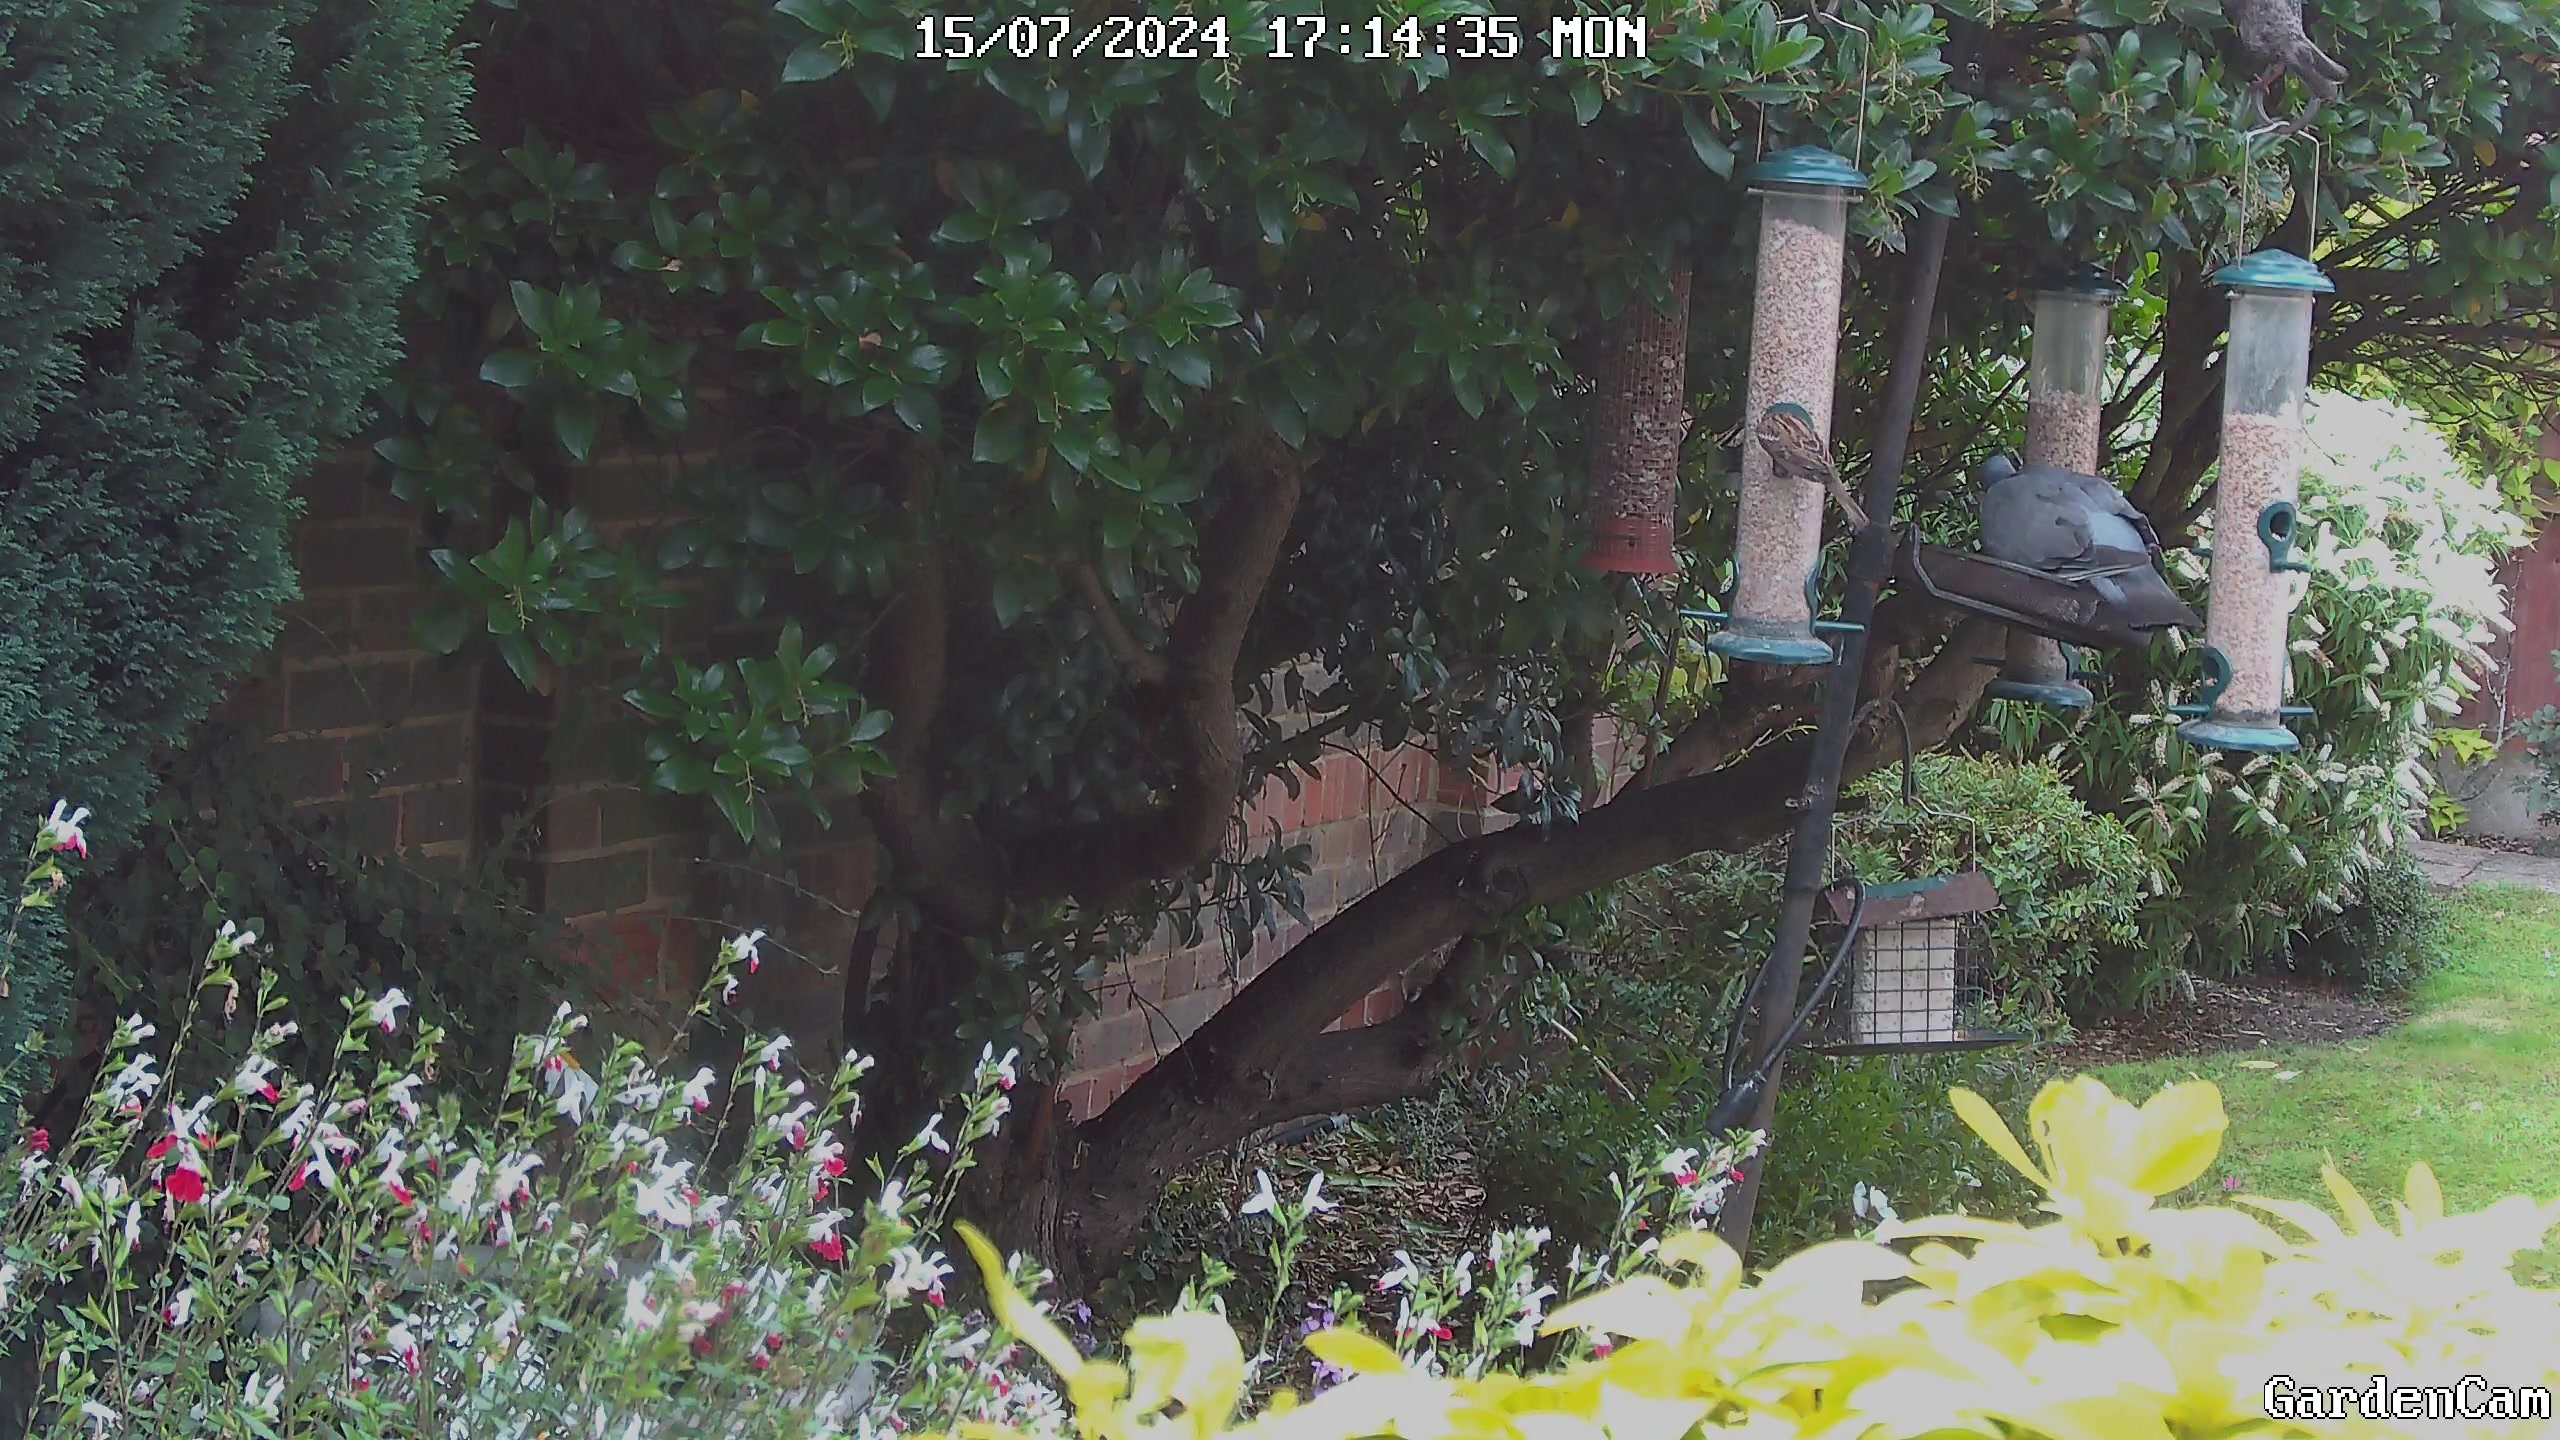House_Sparrow: (1713, 390, 1892, 529)
White_Collared_Dove: (1950, 445, 2228, 647)
